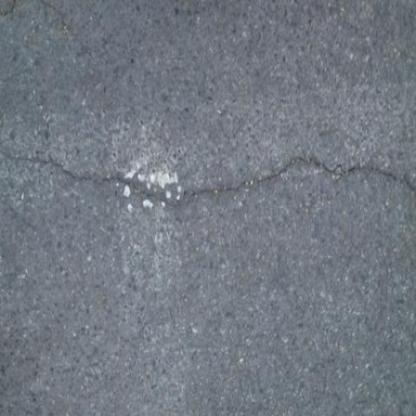Cracks: (1, 141, 415, 211)
